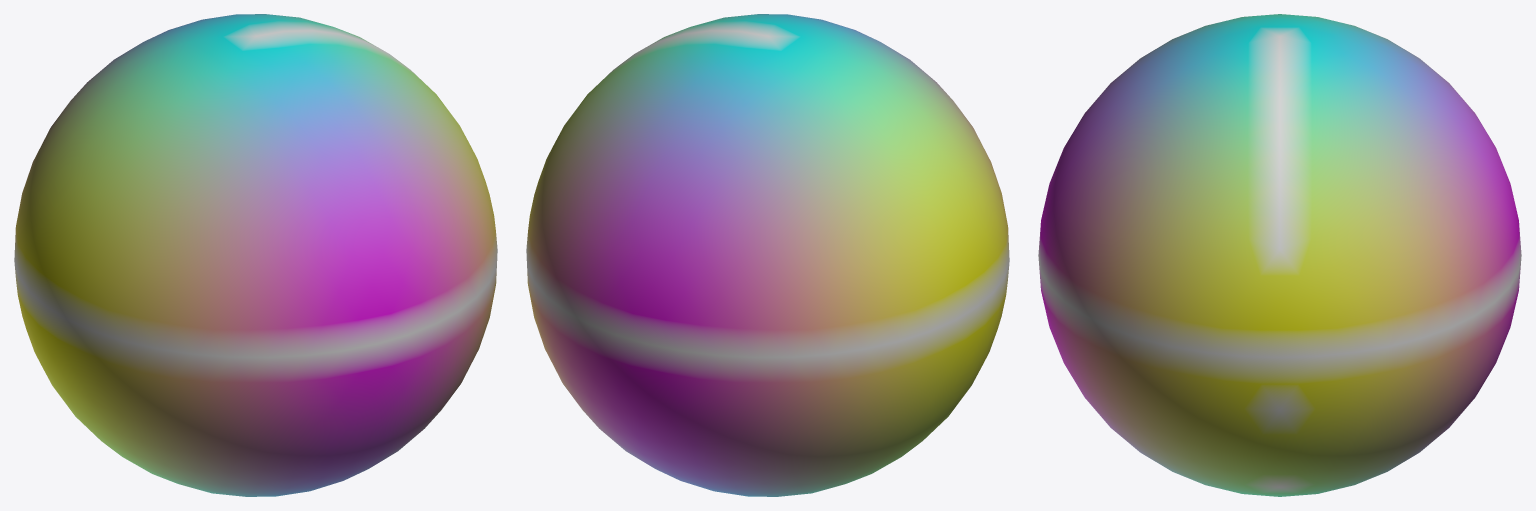
Rendered from SM_TrackerBot.FBX.
3 renders of one model, left to right at view 1: azimuth 30°, elevation 25°; view 2: azimuth 150°, elevation 25°; view 3: azimuth 270°, elevation 25°, orthographic.
Visible parts, largest first — view 1: SM_TrackerBot; view 2: SM_TrackerBot; view 3: SM_TrackerBot.
Part boxes in pixels (box(x1,y1,x2,y2)): SM_TrackerBot: box(14, 14, 497, 496); SM_TrackerBot: box(526, 14, 1009, 496); SM_TrackerBot: box(1038, 14, 1521, 496).
Size of what is drawn, in the model's own units: 64 by 64 by 64.
